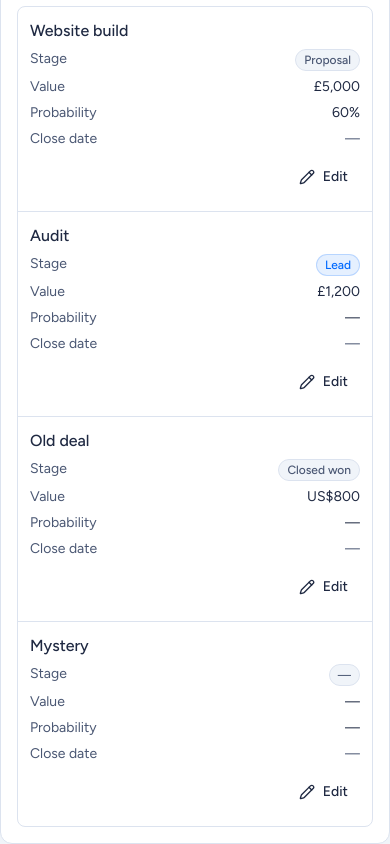
Test: DealsView board › edit deal opens with the stored currency and saves through the update handler
The image size is (390, 844).
Later steps or results of the test are not shown.
(page scrolled)
Click the button with aria-label "Edit Old deal" at coordinates (323, 587), box x1=287 y1=565 x2=360 y2=609
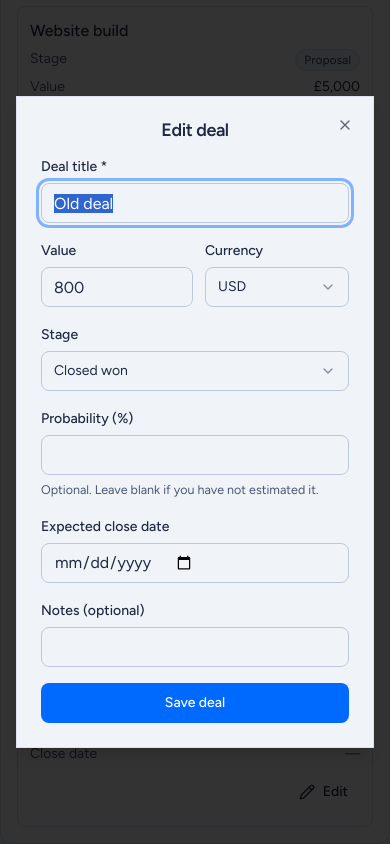
Check: the dialog shows "Edit deal", box x1=161 y1=119 x2=229 y2=141
Check: the dropdown named "Currency" reads "USD", box x1=205 y1=267 x2=349 y2=307
